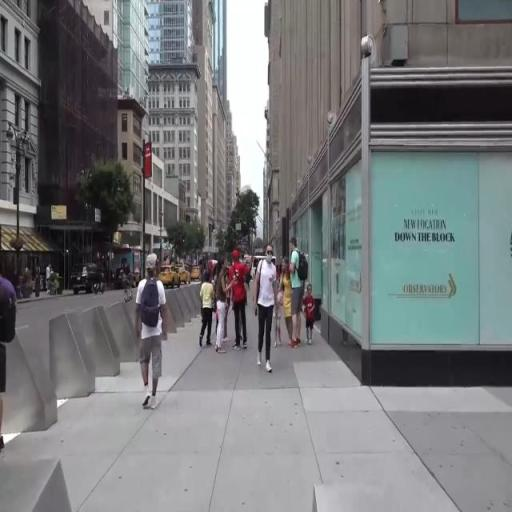person: (139, 259, 165, 423), (255, 242, 284, 385), (231, 249, 250, 358), (290, 237, 306, 352), (199, 267, 213, 356), (215, 253, 226, 355), (281, 257, 293, 339), (305, 284, 316, 349)
